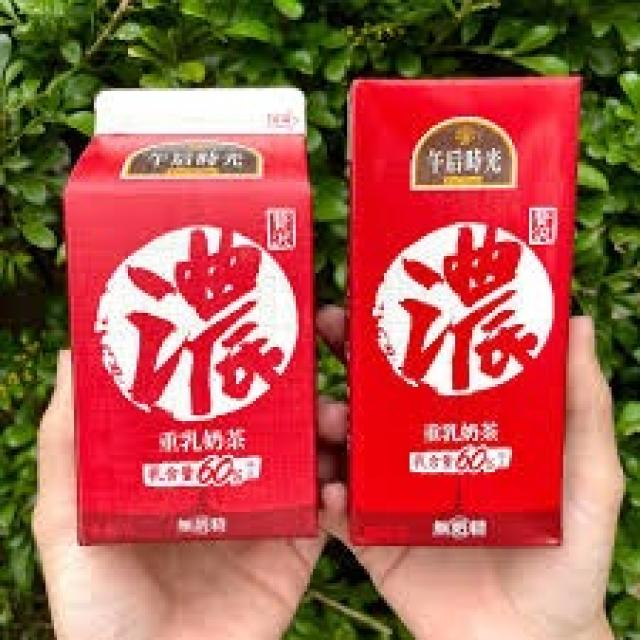Known_MilkTea: (74, 86, 314, 546), (336, 72, 560, 546)
